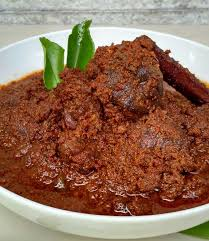Rendang: (1, 34, 209, 214)
